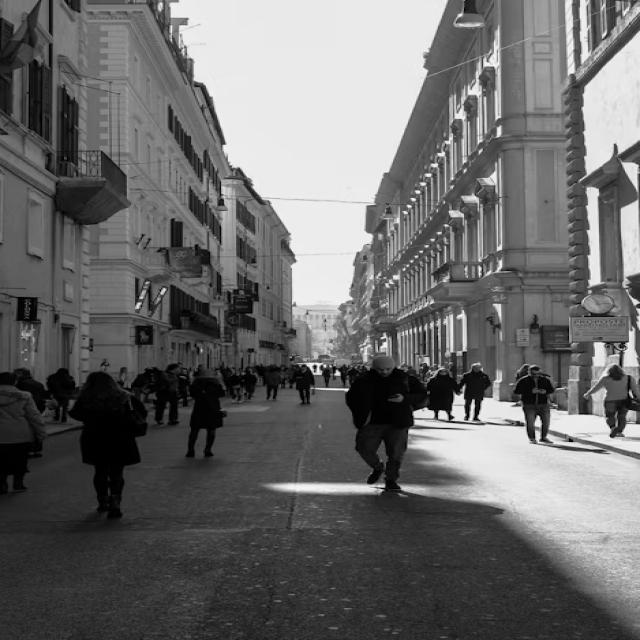Edited images: (321, 336, 447, 507)
